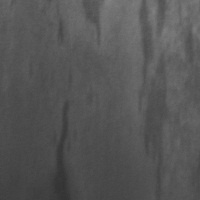inclusion: (136, 1, 197, 199), (49, 97, 77, 199), (79, 1, 108, 50), (46, 1, 69, 48)
